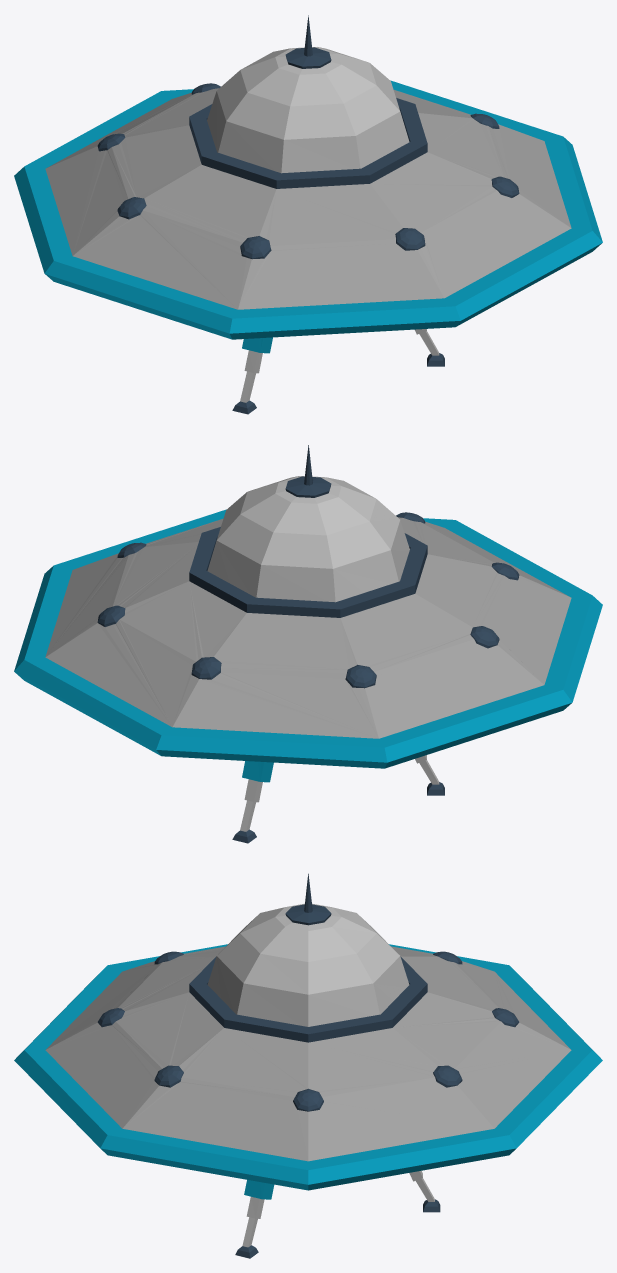
File: flying-sacuer-1.glb
3 renders of one model, top to bottom at view 1: azimuth 30°, elevation 25°; view 2: azimuth 150°, elevation 25°; view 3: azimuth 270°, elevation 25°, orthographic. The views are drawn at different scales.
Bounding box in the file's own units: 2.24 × 1.41 × 2.24.
